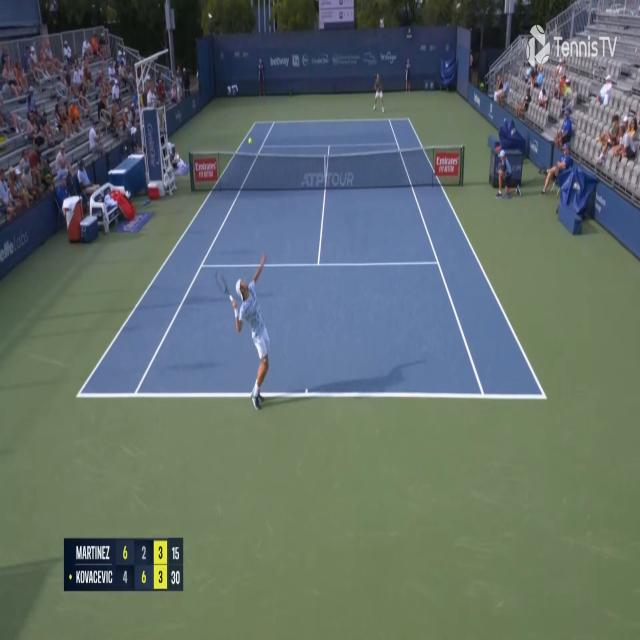tennis-player: (213, 250, 272, 413), (371, 72, 386, 113)
